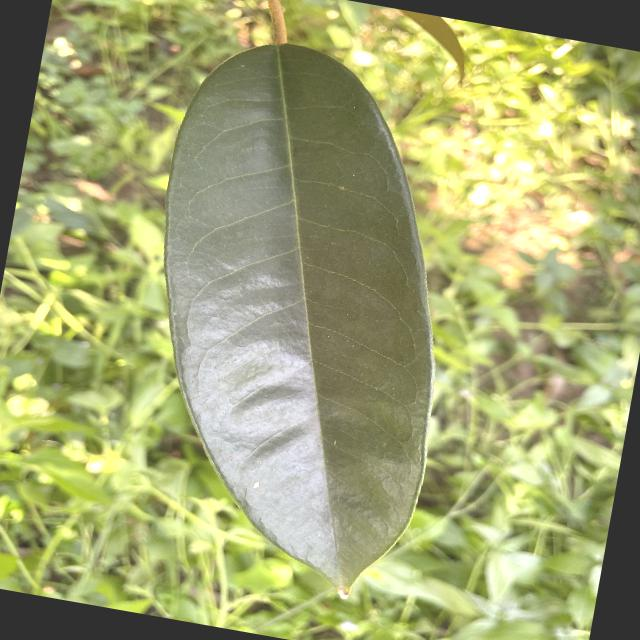No Disease: (88, 11, 508, 617)
